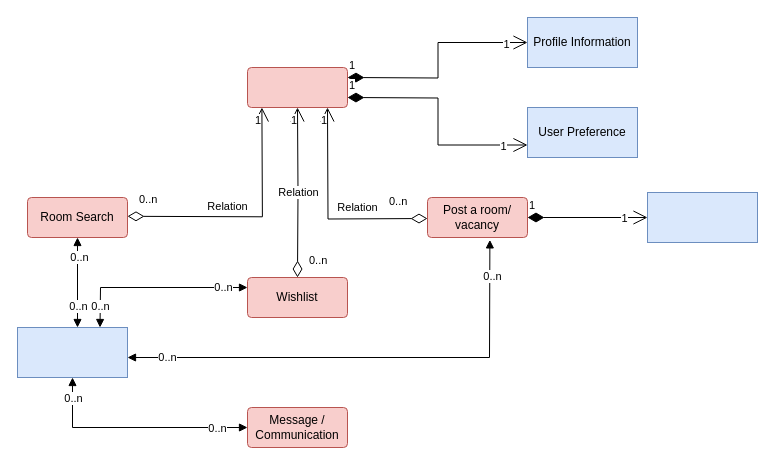
This 775x465 diagram has some shape labels left out. Each missing label, with the centre of its shape:
Listing Details: the point at 702,217
Search Criteria: the point at 72,352
User: the point at 297,87
